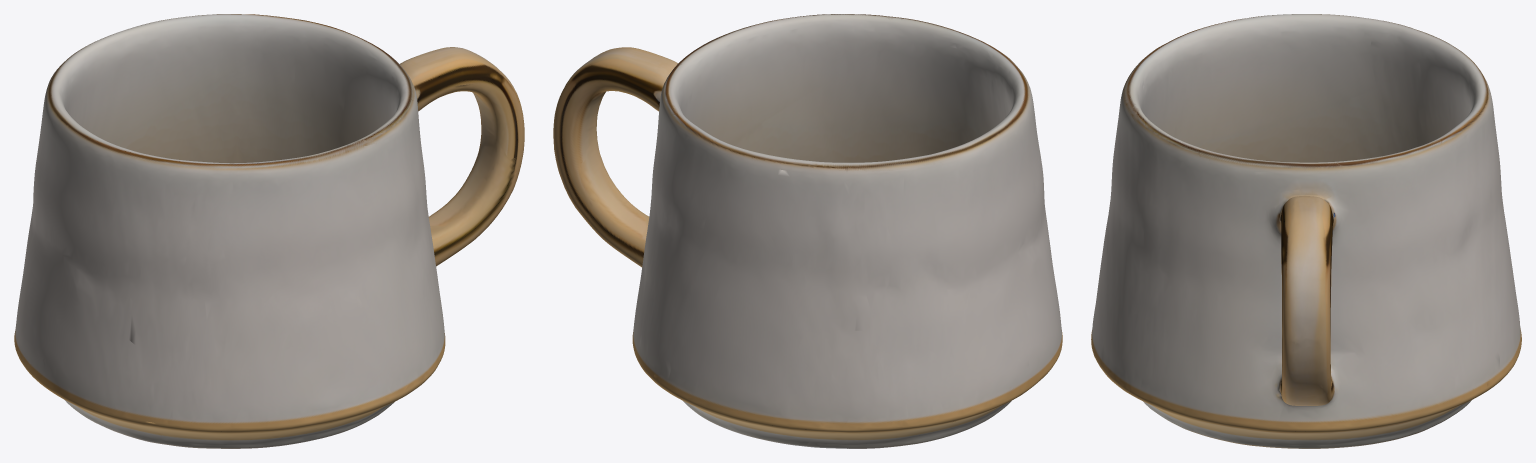
File: goodcase0304_157.glb
3 views of the same model, side by side, from view 1: azimuth 30°, elevation 25°; view 2: azimuth 150°, elevation 25°; view 3: azimuth 270°, elevation 25° (orthographic).
Visible parts, largest first — view 1: texture_v128_amrb_13w_cfg2_realbump_hdr.001; view 2: texture_v128_amrb_13w_cfg2_realbump_hdr.001; view 3: texture_v128_amrb_13w_cfg2_realbump_hdr.001.
Boxes of the visible parts, left/top/right/bottom form: texture_v128_amrb_13w_cfg2_realbump_hdr.001: left=14, top=14, right=524, bottom=448; texture_v128_amrb_13w_cfg2_realbump_hdr.001: left=553, top=14, right=1062, bottom=448; texture_v128_amrb_13w_cfg2_realbump_hdr.001: left=1091, top=14, right=1521, bottom=448.
Size of the model in its own units: 2 by 1.17 by 1.58.
Materials: 1 (1 with a texture image).
